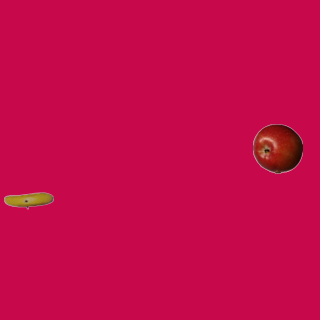Apple Braeburn: (252, 123, 302, 173)
Banana: (3, 175, 53, 225)
